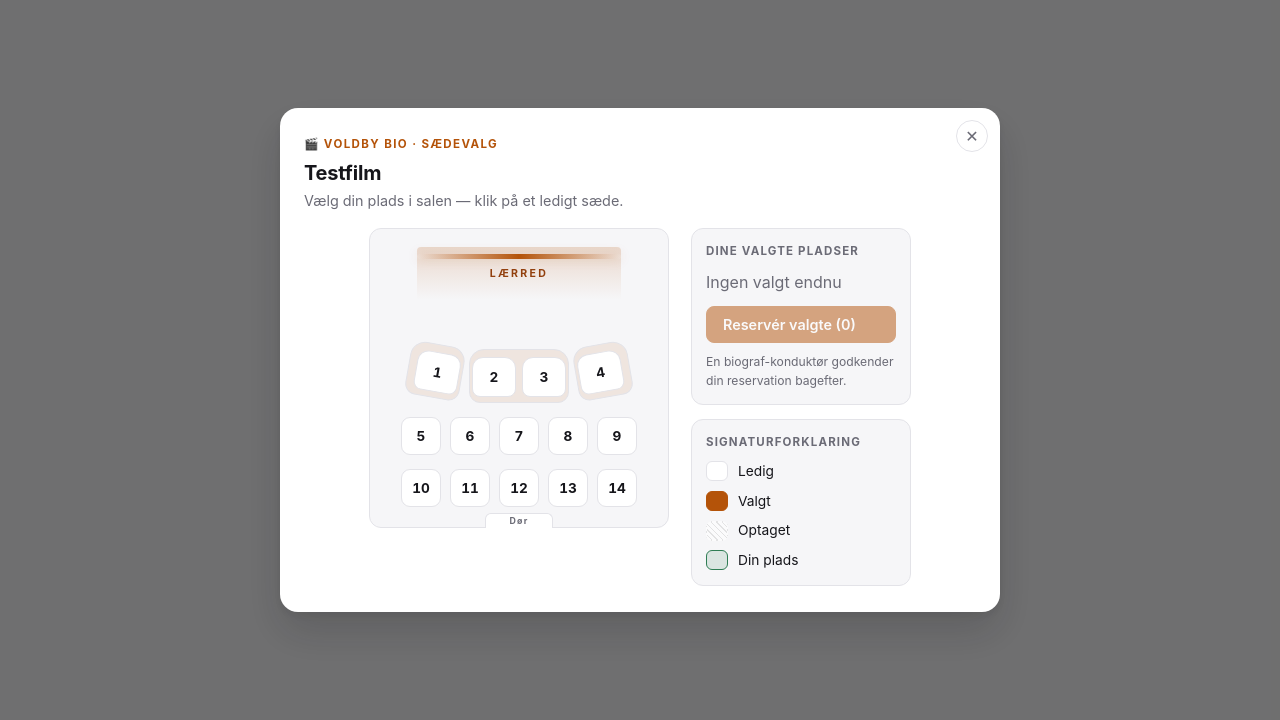
Test: SeatSelectionModal (feature #133) › fravalg fjerner sædet igen fra valget
Click the button "5" at x=421, y=436, box [401, 417, 441, 455]
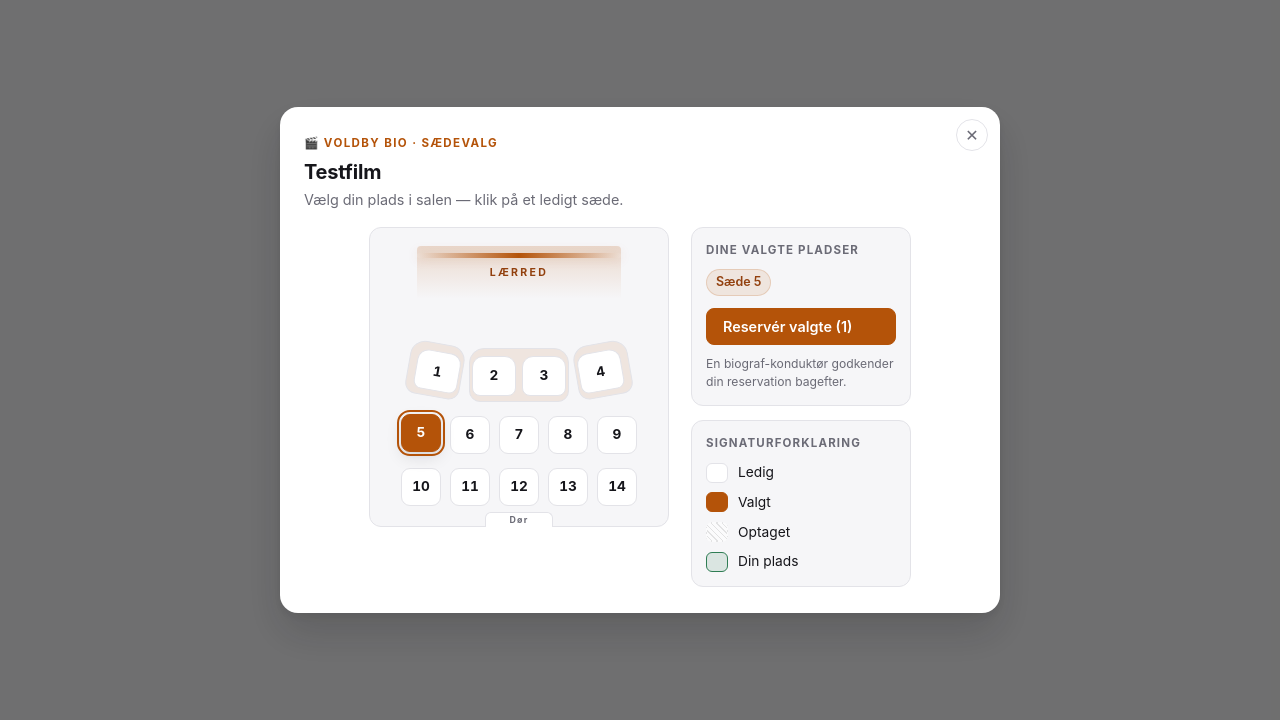
Click the button "5" at x=421, y=433, box [401, 414, 441, 452]
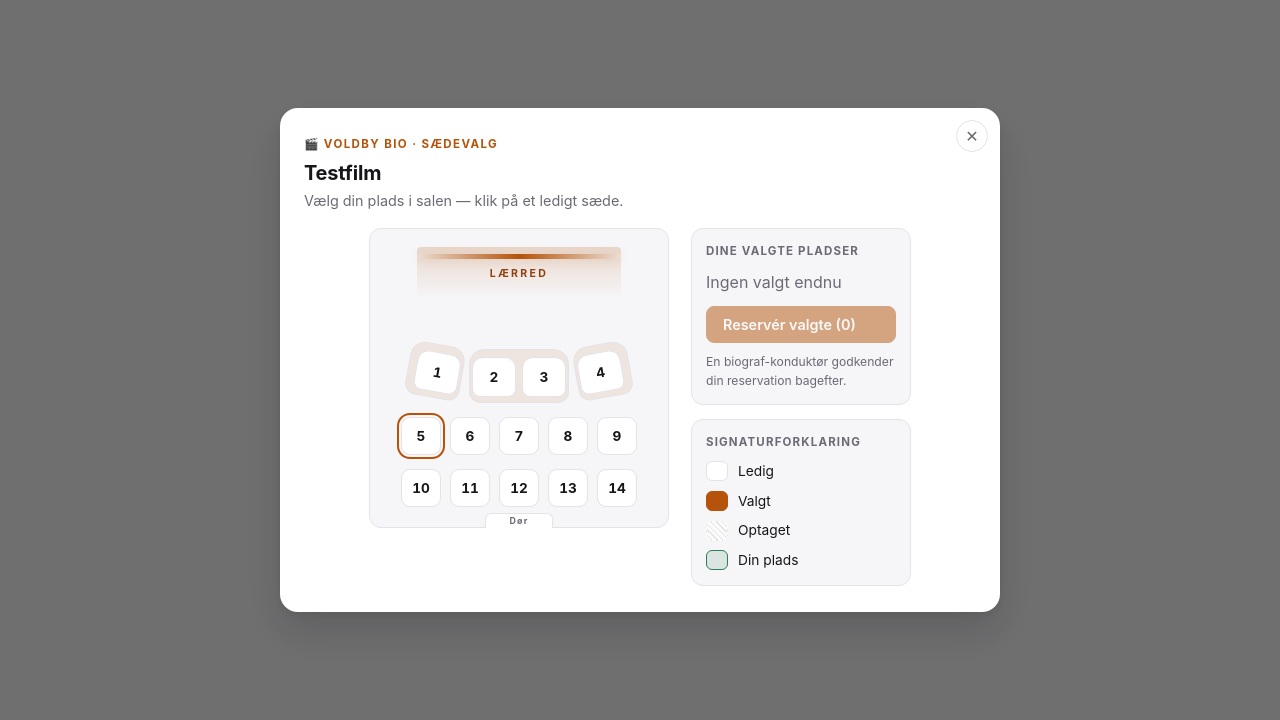
Check: the button "Reservér valgte (0)" is disabled, box [706, 306, 896, 343]
